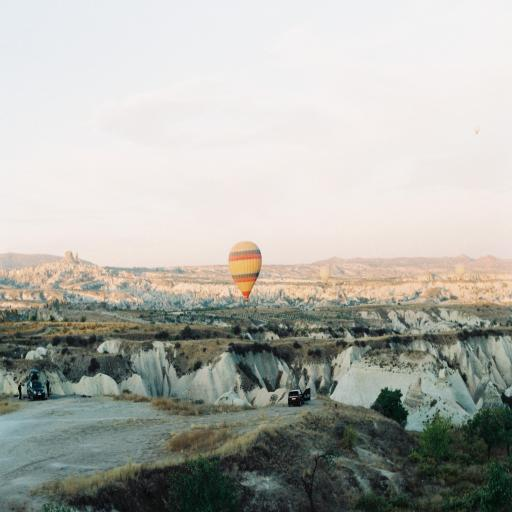hot air ballon: (228, 241, 261, 304)
